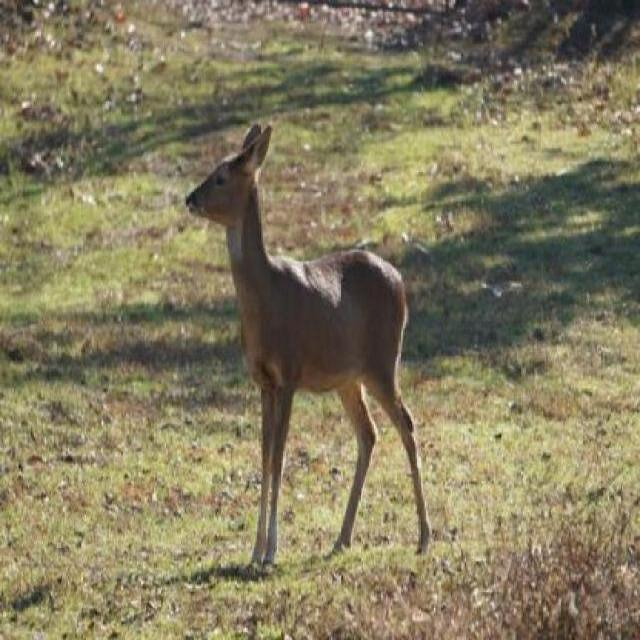deer: (179, 119, 410, 564)
